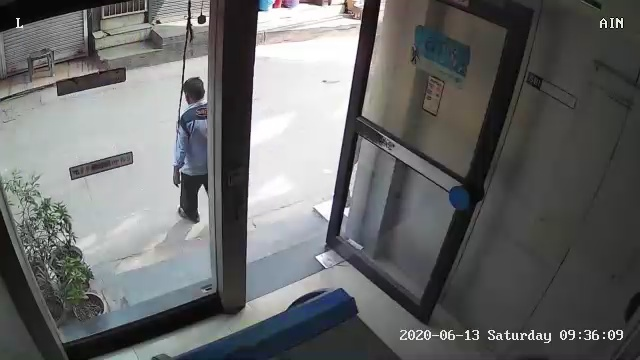open: (188, 5, 552, 340)
